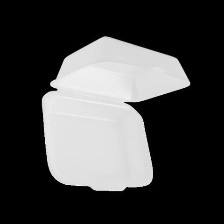foam_box: (35, 31, 194, 200)
